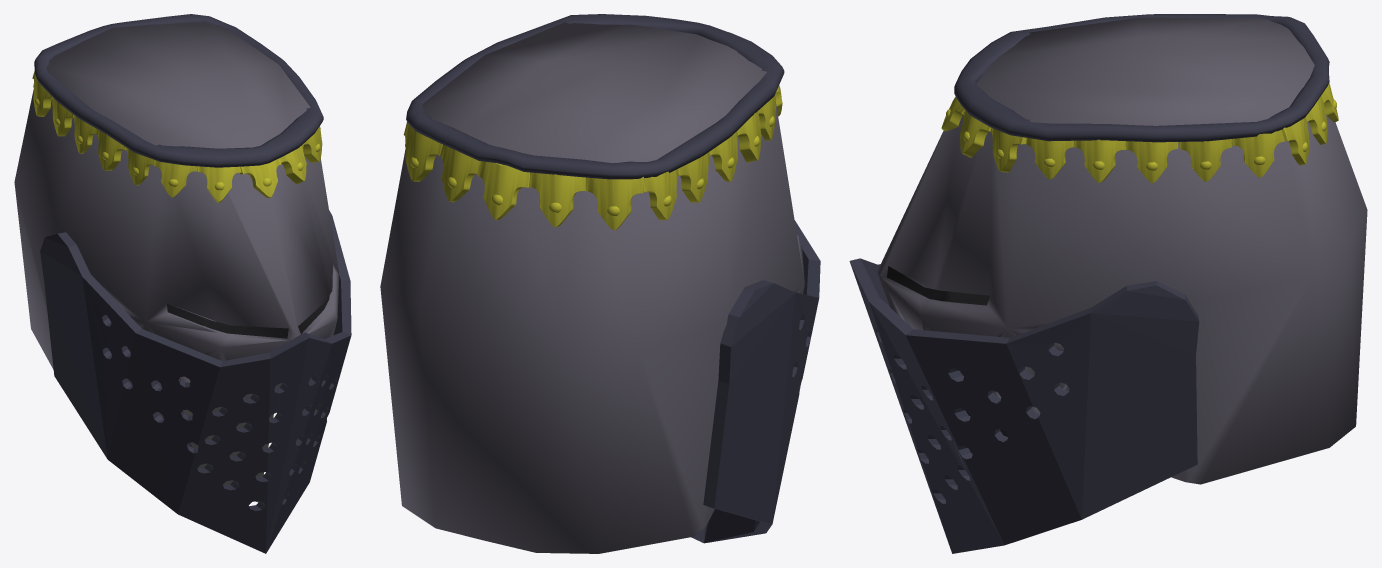
File: bucket.glb
3 renders of one model, left to right at view 1: azimuth 30°, elevation 25°; view 2: azimuth 150°, elevation 25°; view 3: azimuth 270°, elevation 25°, orthographic. The views are drawn at different scales.
Visible parts, largest first — view 1: Cube, Plane, Cube.001, BézierCurve.009, Cube.003, BézierCurve; view 2: Cube, Plane, Cube.001, BézierCurve.009, BézierCurve.010; view 3: Cube, Plane, Cube.001, BézierCurve.009, Cube.003.
Part boxes in pixels (bbox=[...]): Cube: bbox=[14, 22, 339, 406]; Plane: bbox=[40, 210, 351, 553]; Cube.001: bbox=[34, 14, 323, 167]; BézierCurve.009: bbox=[32, 71, 322, 202]; Cube.003: bbox=[158, 294, 330, 502]; BézierCurve: bbox=[240, 158, 281, 198]; Cube: bbox=[380, 22, 804, 553]; Plane: bbox=[691, 220, 820, 543]; Cube.001: bbox=[406, 14, 784, 179]; BézierCurve.009: bbox=[403, 85, 782, 230]; BézierCurve.010: bbox=[477, 161, 529, 220]; Cube: bbox=[877, 17, 1367, 484]; Plane: bbox=[849, 258, 1199, 553]; Cube.001: bbox=[954, 14, 1329, 142]; BézierCurve.009: bbox=[960, 96, 1327, 183]; Cube.003: bbox=[887, 266, 1007, 452].
Bounding box in the file's own units: 0.7155 × 1.15 × 1.09.
